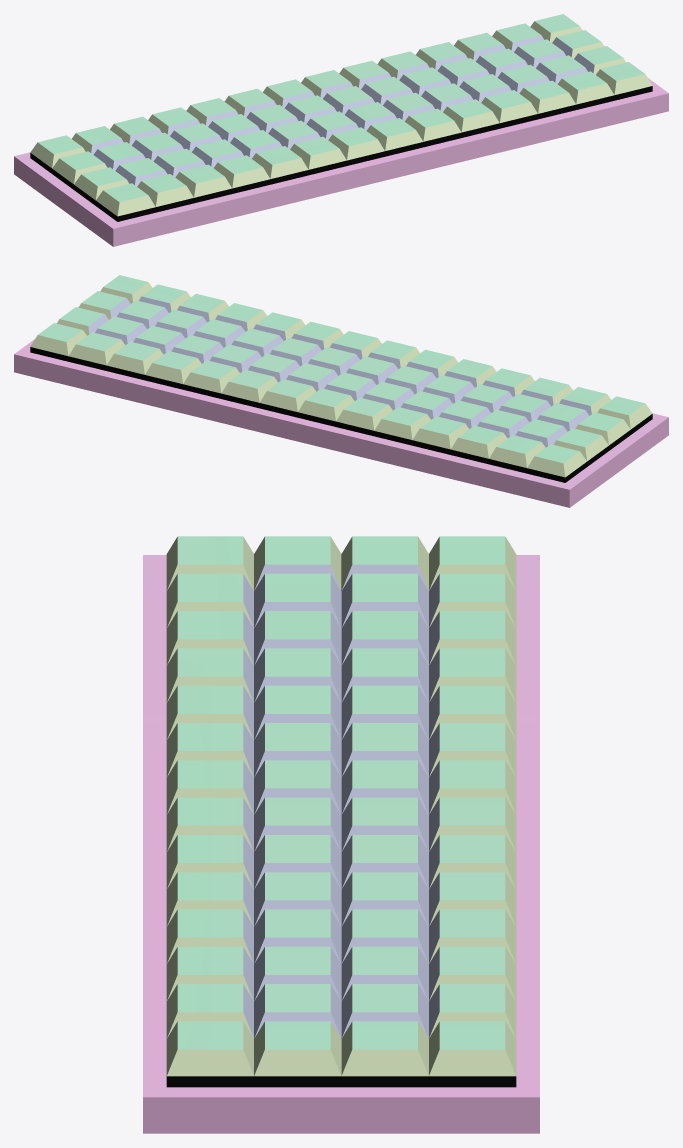
Rendered from keyboard.fbx.
3 views of the same model, one above another, from view 1: azimuth 30°, elevation 25°; view 2: azimuth 150°, elevation 25°; view 3: azimuth 270°, elevation 25° (orthographic). The views are drawn at different scales.
Parts seen in each view (by area): view 1: Cube; view 2: Cube; view 3: Cube.
Part boxes in pixels (box(x1,y1,x2,y2)): Cube: box(14, 14, 668, 246); Cube: box(14, 275, 668, 507); Cube: box(143, 536, 539, 1133).
Size of the model in its own units: 71.17 by 4.24 by 22.02.
